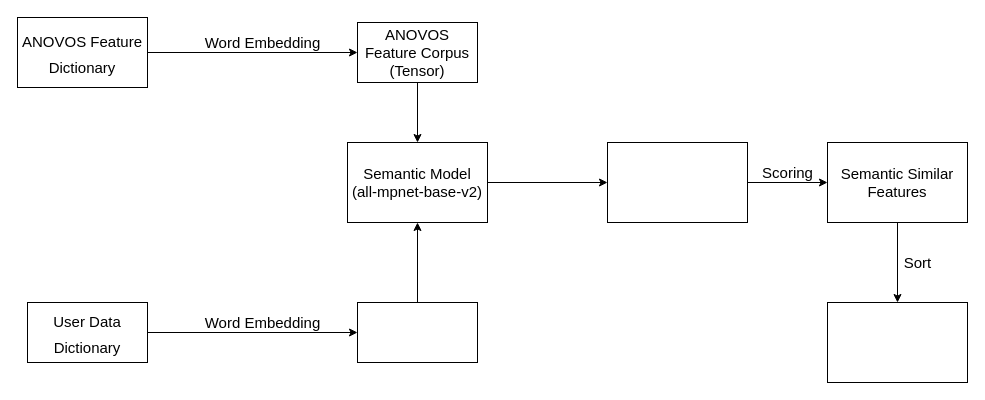
This 985x400 diagram has some shape labels left out. Each missing label, with the centre of its shape:
"Cosine Similarity Comparison Pair" goes at [677,182].
"Recommend Best Match Features" goes at [897,342].
"User Data Corpus (Tensor)" goes at [417,332].
